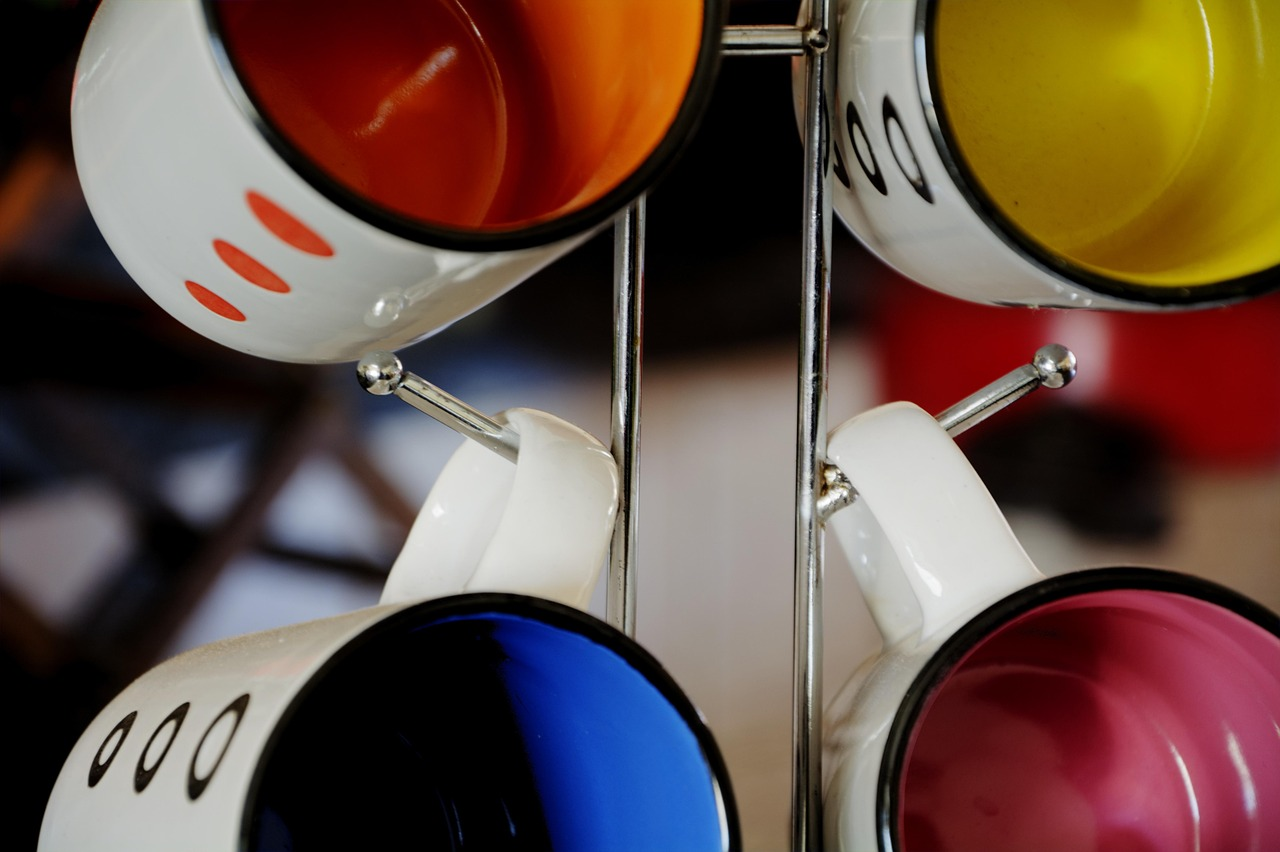mug: (15, 387, 752, 850), (45, 12, 723, 362), (785, 401, 1274, 852), (792, 1, 1275, 306)
